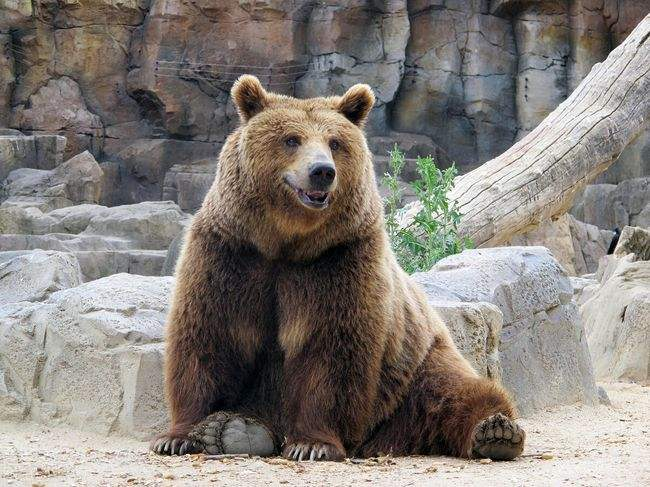bear: (147, 56, 542, 465)
